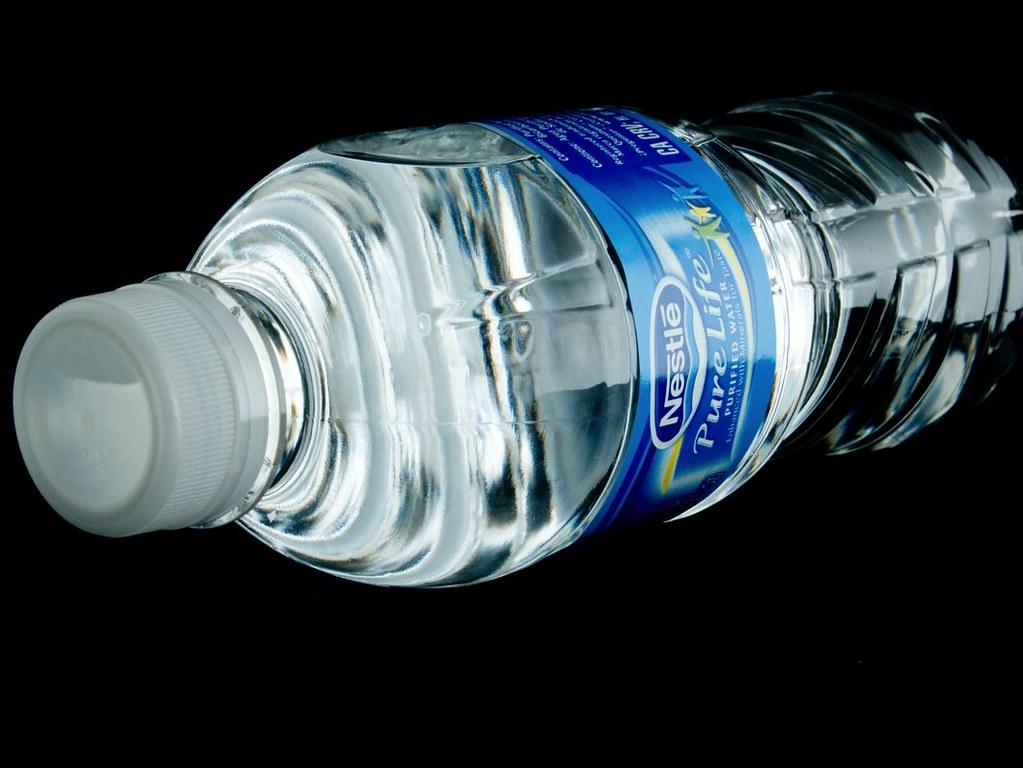bottle: (2, 52, 1023, 638)
